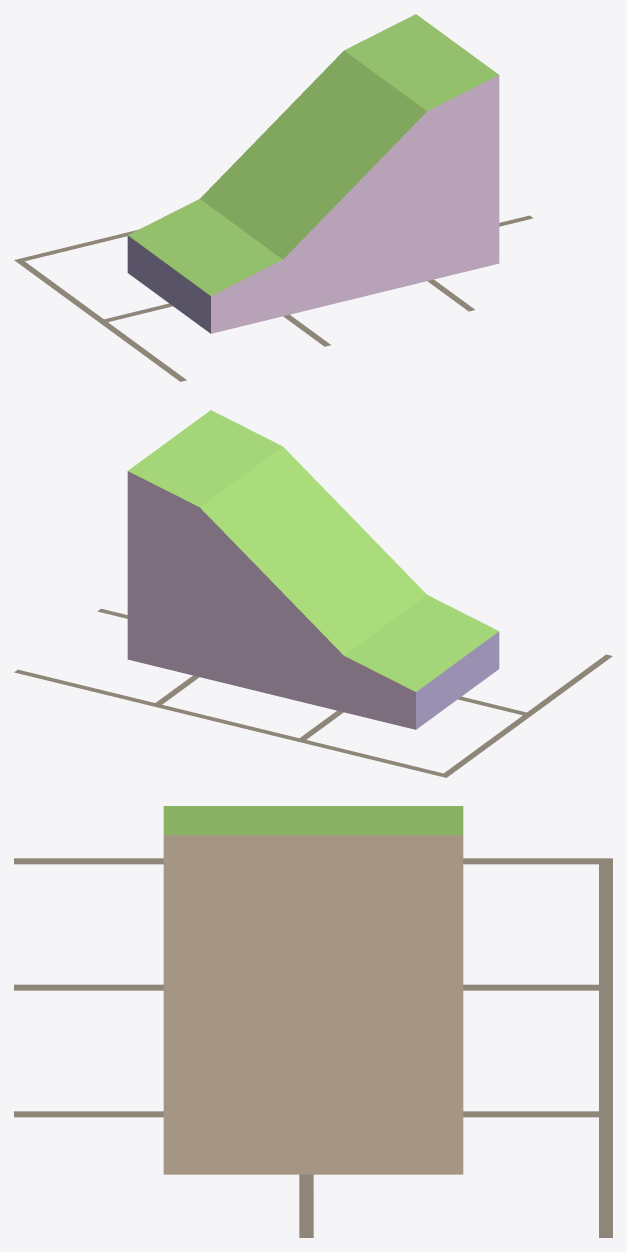
The model's file is Grass_Hill_Sharp_Straight_1x2.glb.
3 renders of one model, top to bottom at view 1: azimuth 30°, elevation 25°; view 2: azimuth 150°, elevation 25°; view 3: azimuth 270°, elevation 25°, orthographic. The views are drawn at different scales.
Visible parts, largest first — view 1: Grass_Hill_Sharp_Straight_1x2, Floor; view 2: Grass_Hill_Sharp_Straight_1x2, Floor; view 3: Grass_Hill_Sharp_Straight_1x2, Floor.
Part boxes in pixels (x1,y1,x2,y2): Grass_Hill_Sharp_Straight_1x2: (127,14,499,333); Floor: (14,215,532,381); Grass_Hill_Sharp_Straight_1x2: (127,410,499,729); Floor: (14,608,612,777); Grass_Hill_Sharp_Straight_1x2: (163,806,463,1174); Floor: (14,858,612,1237).
Size of the model in its own units: 300 by 125 by 200.
6 materials, 1 textured.
